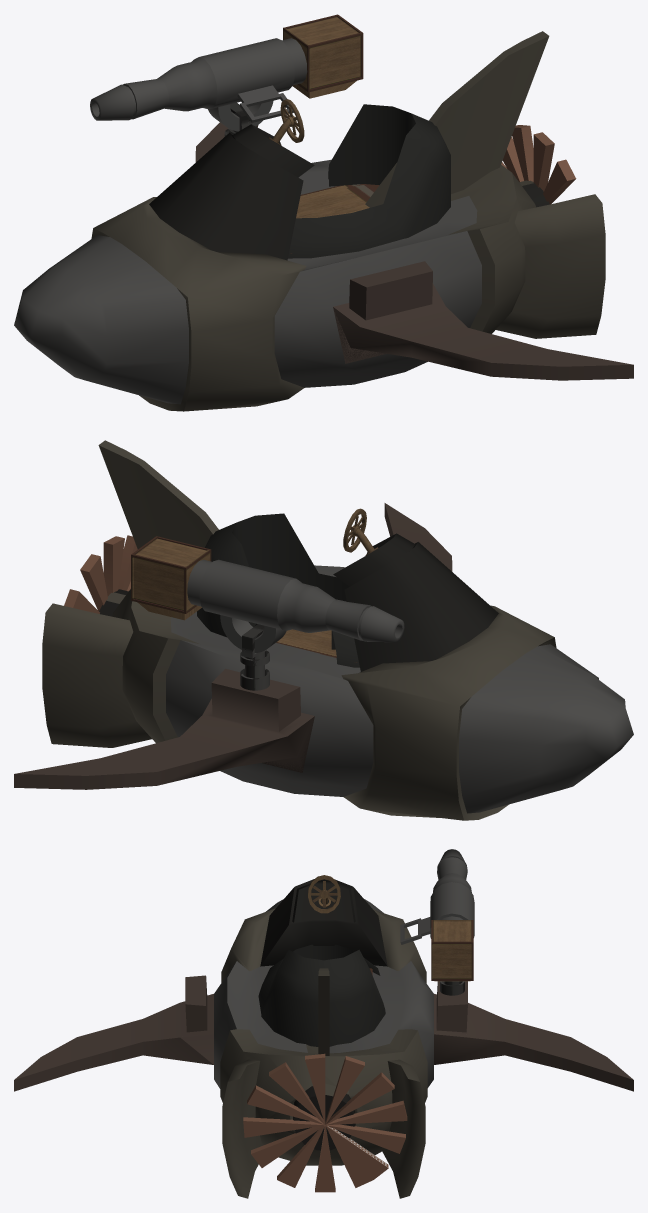
The model's file is enemie 1.fbx.
The picture shows the model from 3 angles, top to bottom: view 1: azimuth 30°, elevation 25°; view 2: azimuth 150°, elevation 25°; view 3: azimuth 270°, elevation 25°; orthographic projection. The views are drawn at different scales.
Visible parts, largest first — view 1: body, body_2, wings, Capsule, body_4, cannon, cannon_box, proppeler, platform, Tube_3; view 2: body, body_2, wings, body_4, cannon, Capsule, cannon_box, proppeler, Tube_3, platform; view 3: body, wings, proppeler, Capsule, body_2, body_4, cannon, cannon_box, body_3.
Boxes of the visible parts, x1=… form: body: x1=91, y1=31, x2=605, y2=411; body_2: x1=14, y1=159, x2=481, y2=404; wings: x1=195, y1=122, x2=633, y2=380; Capsule: x1=288, y1=104, x2=450, y2=258; body_4: x1=149, y1=124, x2=314, y2=260; cannon: x1=90, y1=38, x2=307, y2=122; cannon_box: x1=283, y1=14, x2=363, y2=98; proppeler: x1=501, y1=125, x2=576, y2=204; platform: x1=290, y1=184, x2=379, y2=253; Tube_3: x1=208, y1=100, x2=273, y2=131; body: x1=42, y1=440, x2=556, y2=820; body_2: x1=166, y1=565, x2=633, y2=813; wings: x1=14, y1=503, x2=452, y2=789; body_4: x1=333, y1=533, x2=498, y2=671; cannon: x1=187, y1=559, x2=404, y2=642; Capsule: x1=197, y1=513, x2=359, y2=667; cannon_box: x1=131, y1=536, x2=211, y2=620; proppeler: x1=64, y1=535, x2=137, y2=613; Tube_3: x1=220, y1=615, x2=286, y2=652; platform: x1=276, y1=629, x2=356, y2=662; body: x1=220, y1=908, x2=427, y2=1198; wings: x1=14, y1=975, x2=633, y2=1091; proppeler: x1=243, y1=1053, x2=407, y2=1192; Capsule: x1=258, y1=944, x2=385, y2=1046; body_2: x1=214, y1=899, x2=433, y2=1088; body_4: x1=260, y1=879, x2=387, y2=966; cannon: x1=400, y1=849, x2=474, y2=944; cannon_box: x1=431, y1=920, x2=473, y2=981; body_3: x1=293, y1=1086, x2=354, y2=1150.
Size of the model in its own units: 487 by 250 by 597.
8 materials, 8 textured.
